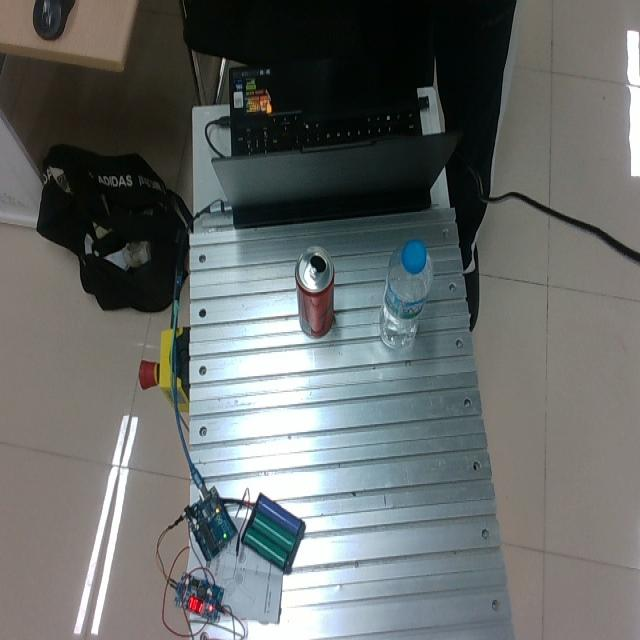coca: (294, 244, 335, 337)
lavie: (377, 238, 433, 350)
